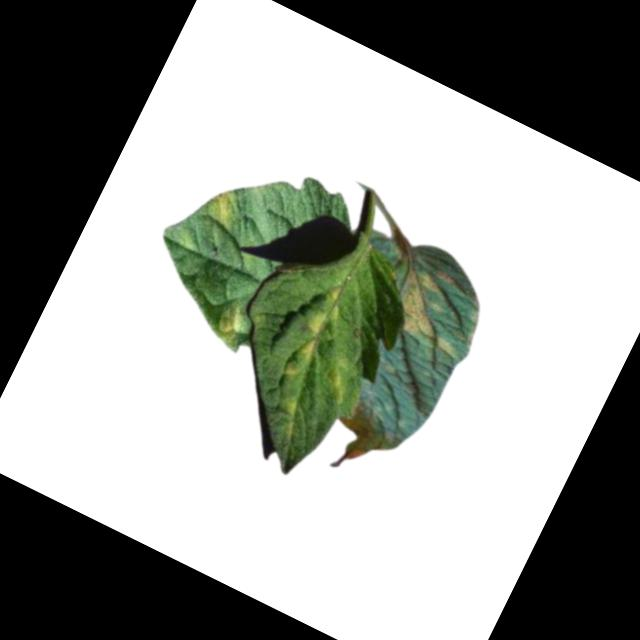Leaf_Mold: (257, 280, 358, 437), (380, 256, 489, 363), (195, 182, 246, 238), (314, 354, 362, 408), (207, 300, 253, 351)
